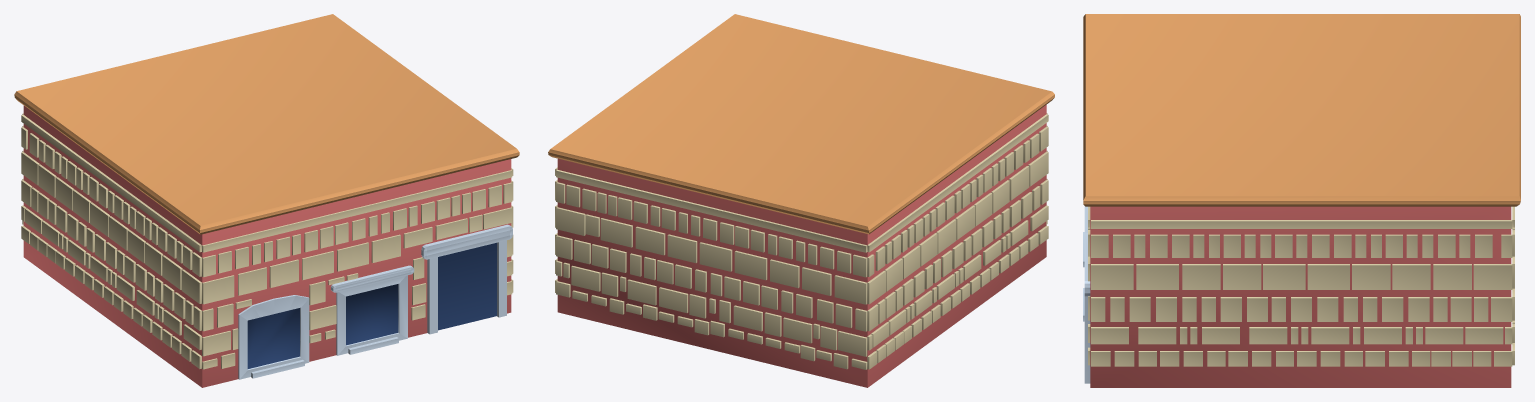
File: MOR_TEP_CASA_02.fbx
3 views of the same model, side by side, from view 1: azimuth 30°, elevation 25°; view 2: azimuth 150°, elevation 25°; view 3: azimuth 270°, elevation 25° (orthographic). The views are drawn at different scales.
Parts seen in each view (by area): view 1: MOR_TEP_CASA_02_LOD0; view 2: MOR_TEP_CASA_02_LOD0; view 3: MOR_TEP_CASA_02_LOD0.
Boxes of the visible parts, box(x1,y1,x2,y2) form: MOR_TEP_CASA_02_LOD0: box(14, 14, 519, 387); MOR_TEP_CASA_02_LOD0: box(548, 14, 1054, 387); MOR_TEP_CASA_02_LOD0: box(1083, 14, 1520, 387).
Size of what is drawn, in the model's own units: 622 by 306 by 626.
